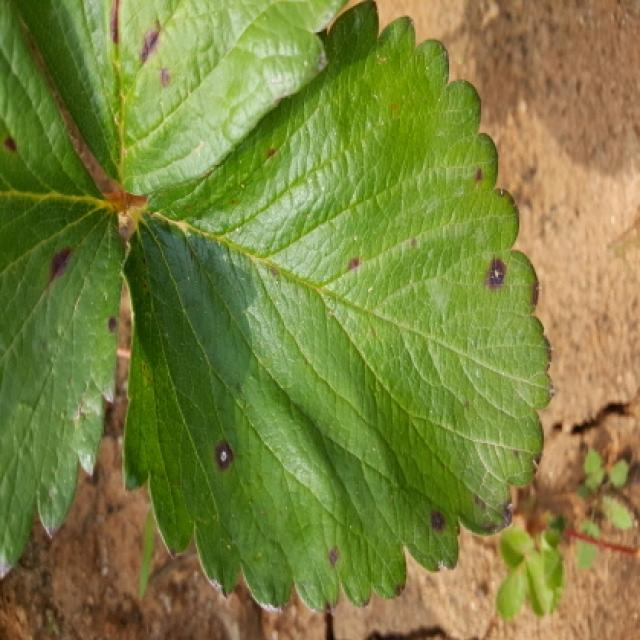Leaf Spot: (117, 0, 558, 614), (12, 0, 348, 198)
